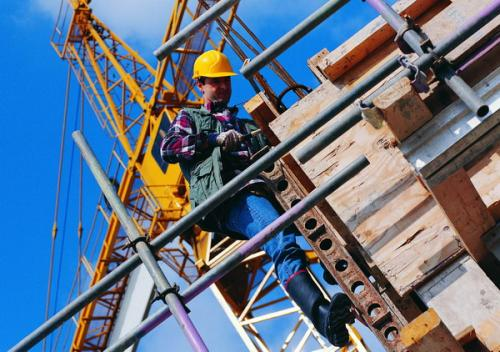boots: (282, 262, 356, 346)
gloves: (216, 129, 245, 152)
hard-hat: (192, 50, 239, 79)
person: (160, 48, 357, 347)
